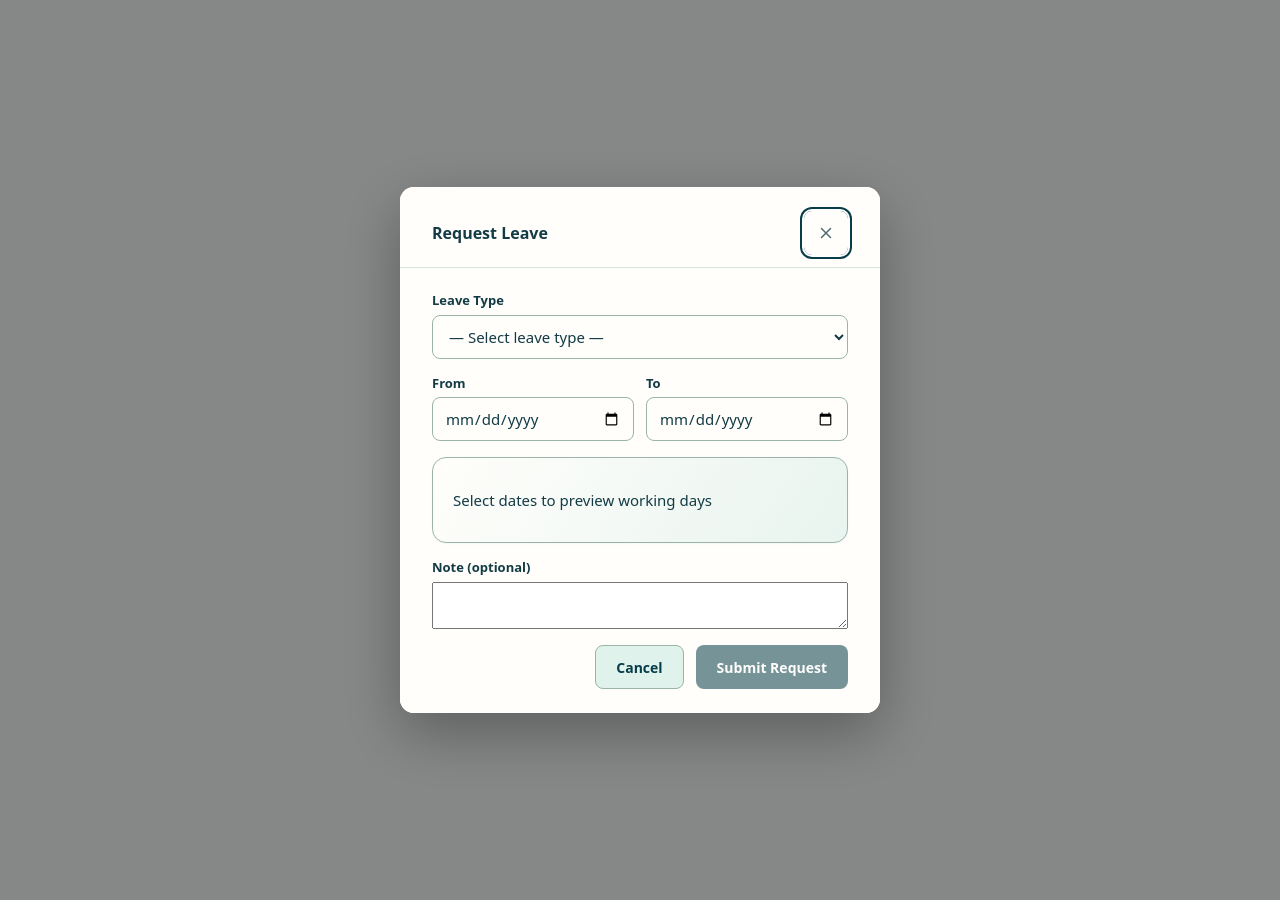
Test: RequestLeaveModal query feedback ATDD — Story 10.8 › [P1] disables the submit control and marks it busy while the leave mutation is pending
This screenshot has width=1280, height=900.
Select "leave Annual Leave" in the dropdown labelled "Leave Type" at (640, 336), box [432,314,848,358]
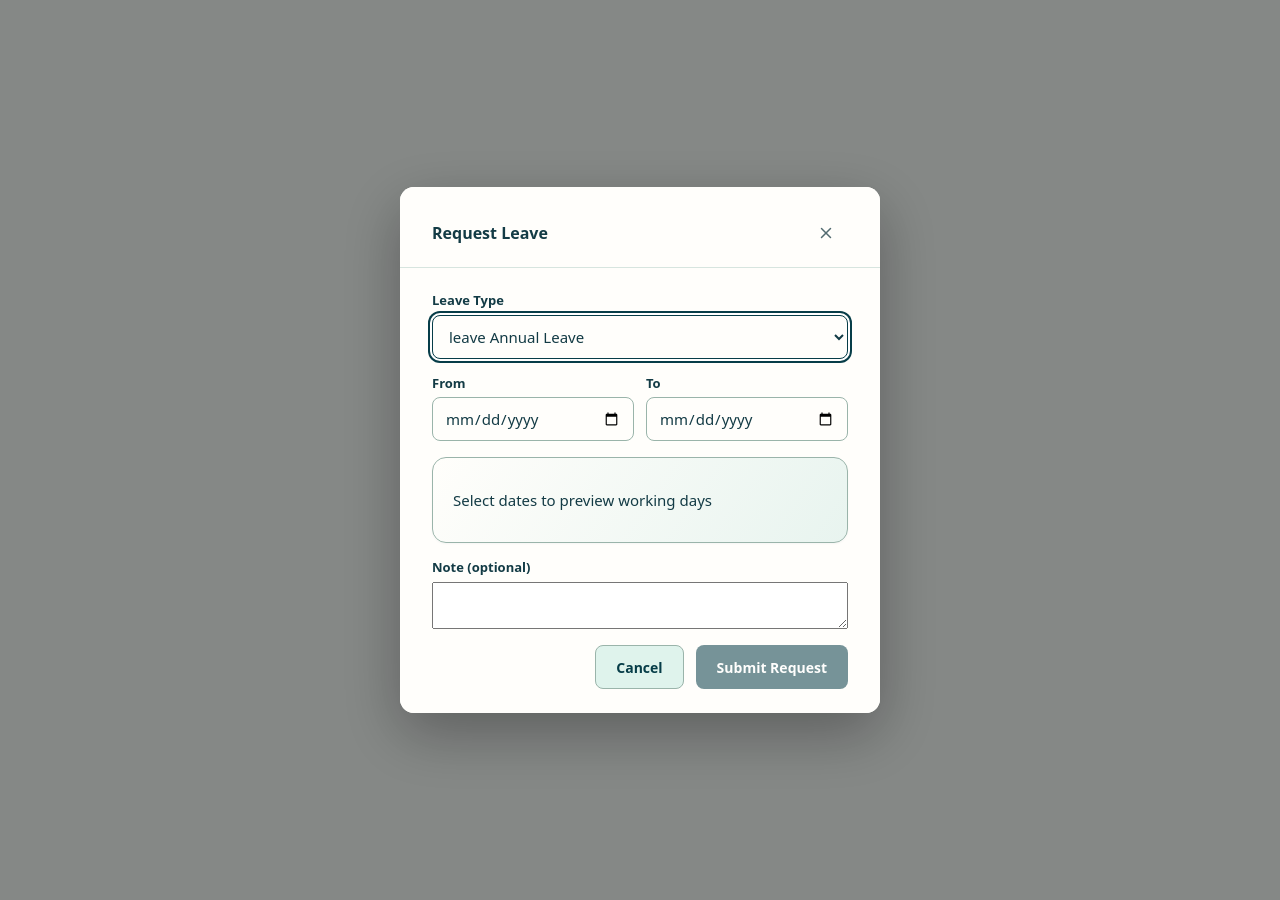
Type "2026-08-03" into the date field with test id "leave-from-date".
click(533, 419); type("2026-08-03")  # box [432,397,634,441]
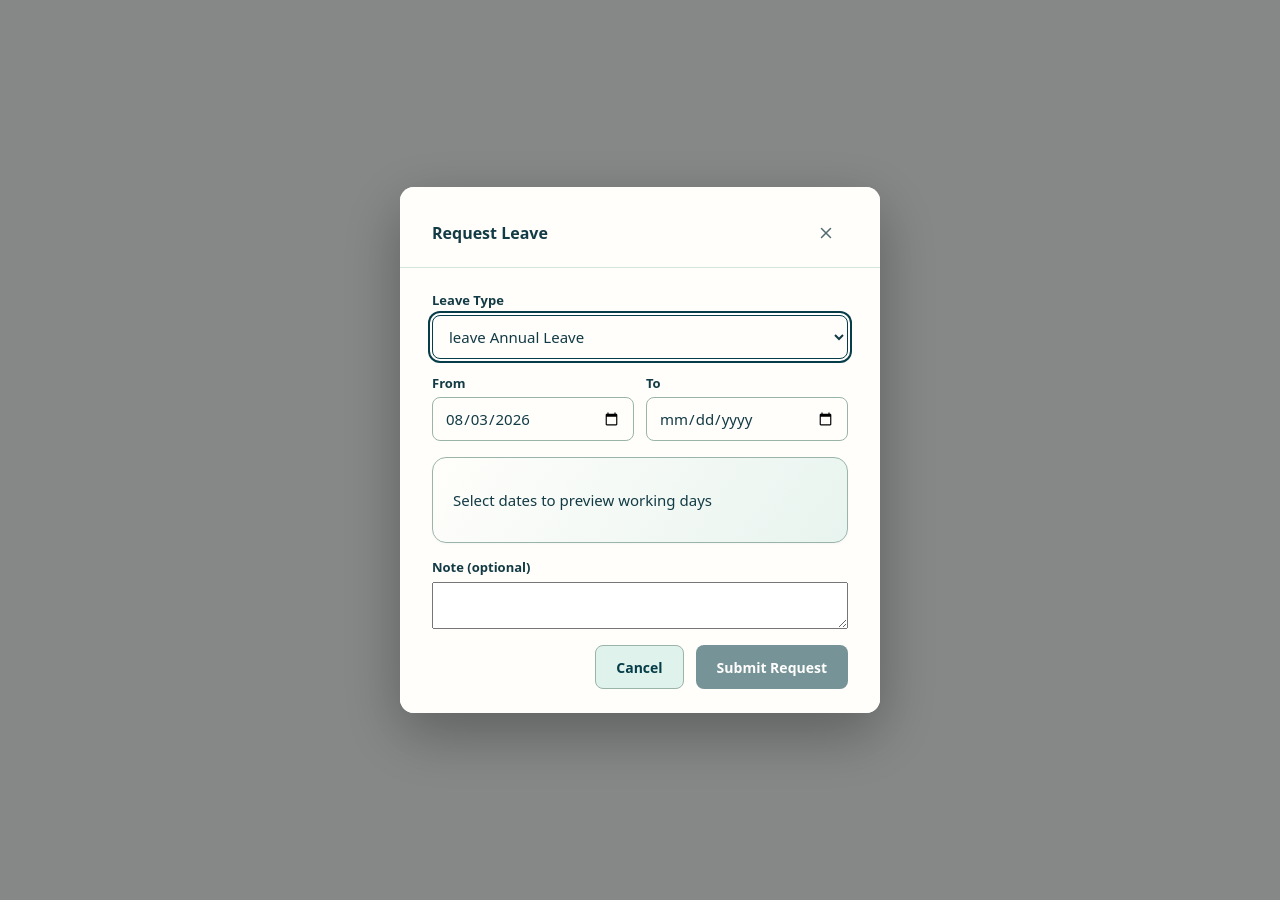
Type "2026-08-07" into the date field with test id "leave-to-date".
click(747, 419); type("2026-08-07")  # box [646,397,848,441]
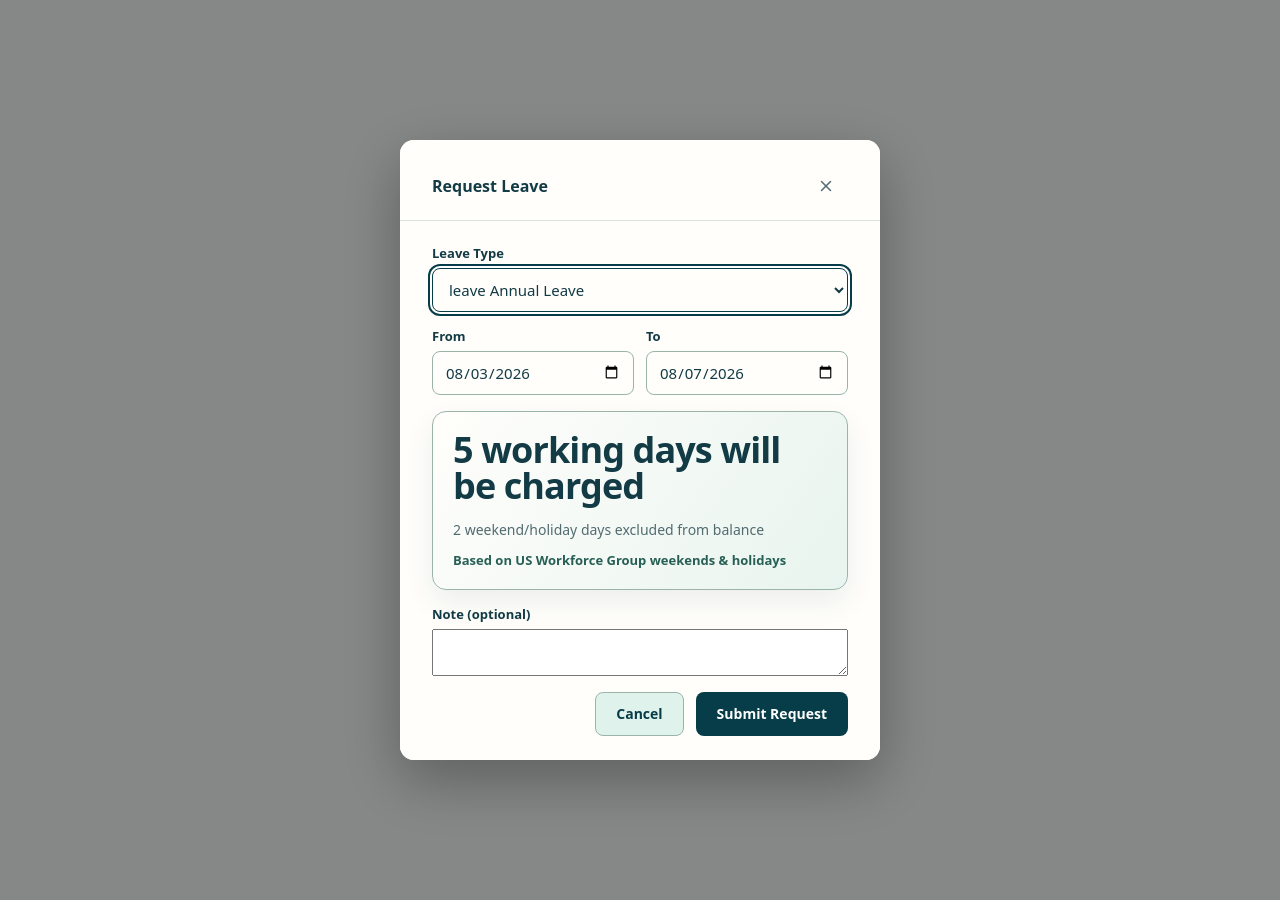
Expected: the button with test id "submit-request-btn" is enabled
Click the button with test id "submit-request-btn".
click(772, 714)  # box [696,692,848,736]
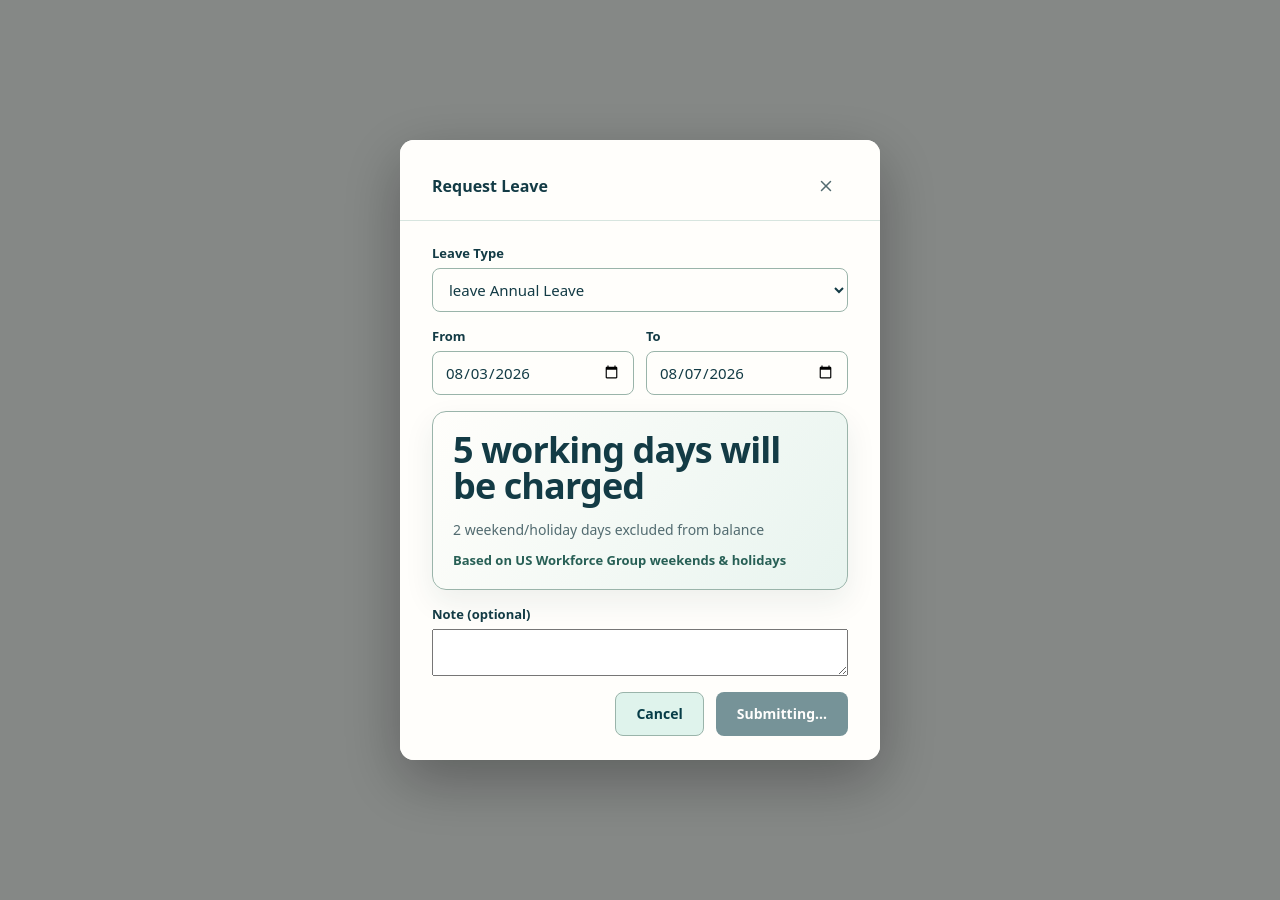
Expected: the button with test id "submit-request-btn" is disabled, [716,692,848,736]
